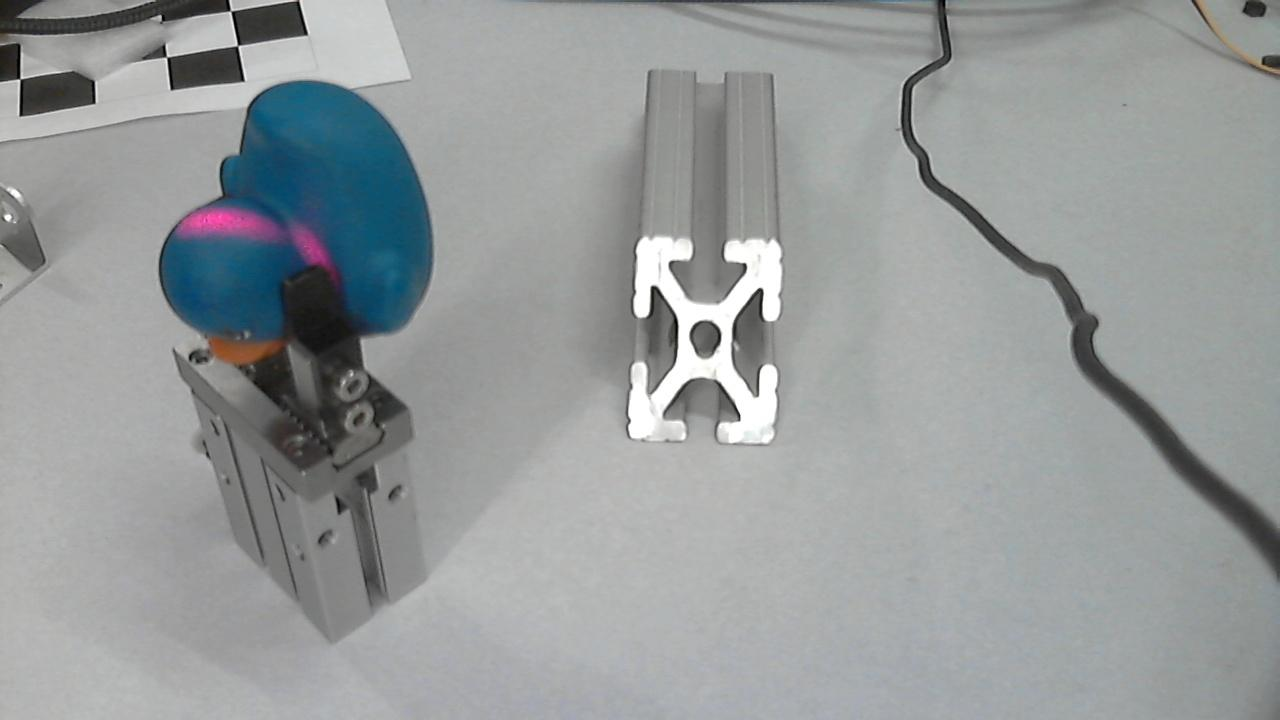Object rubber duck - Material rubber -Color blue - Pdfname BWuUnwTLudUE: (153, 177, 357, 278)
